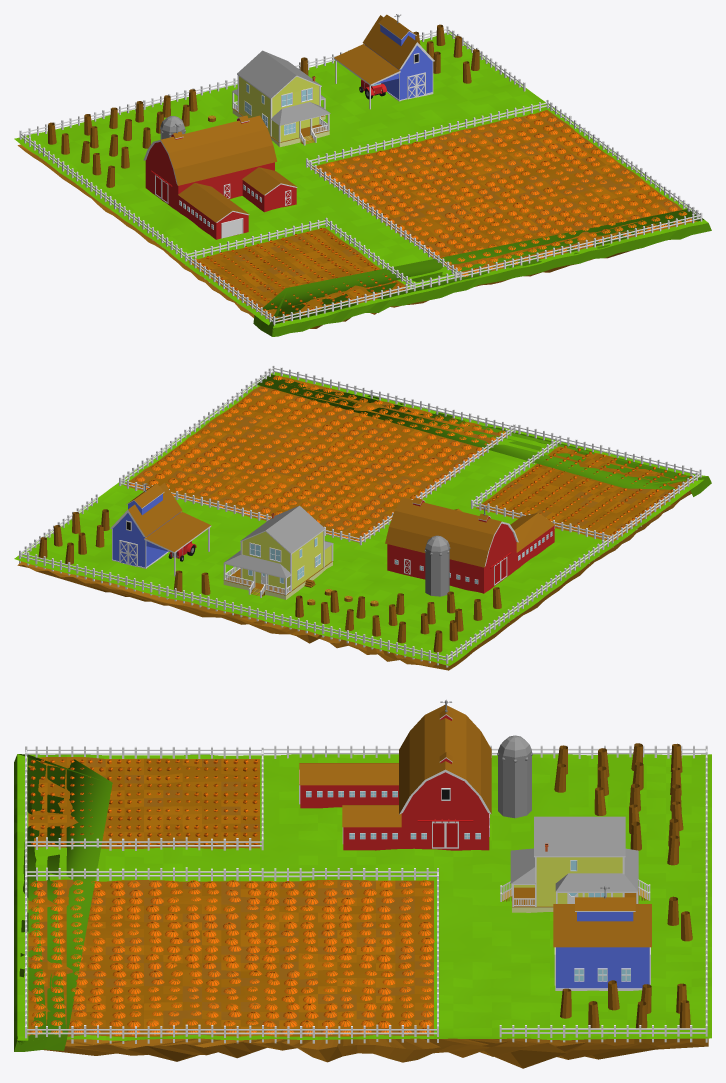
The model's file is Farm.fbx.
The picture shows the model from 3 angles, top to bottom: view 1: azimuth 30°, elevation 25°; view 2: azimuth 150°, elevation 25°; view 3: azimuth 270°, elevation 25°; orthographic projection. The views are drawn at different scales.
Parts seen in each view (by area): view 1: Ground; view 2: Ground; view 3: Ground.
Part boxes in pixels (left/top/right/bottom): Ground: left=14, top=14, right=711, bottom=336; Ground: left=14, top=365, right=711, bottom=670; Ground: left=14, top=700, right=711, bottom=1068.
Size of the model in its own units: 20144 by 6319 by 20634.
